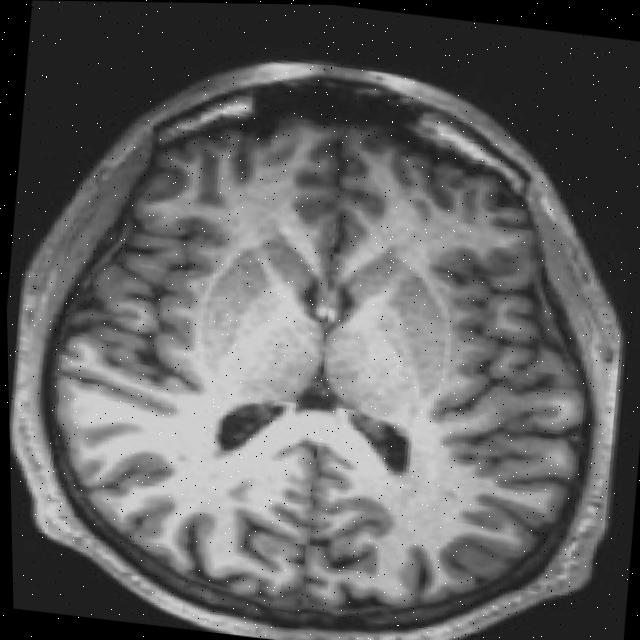NoTumor: (1, 27, 640, 640)
